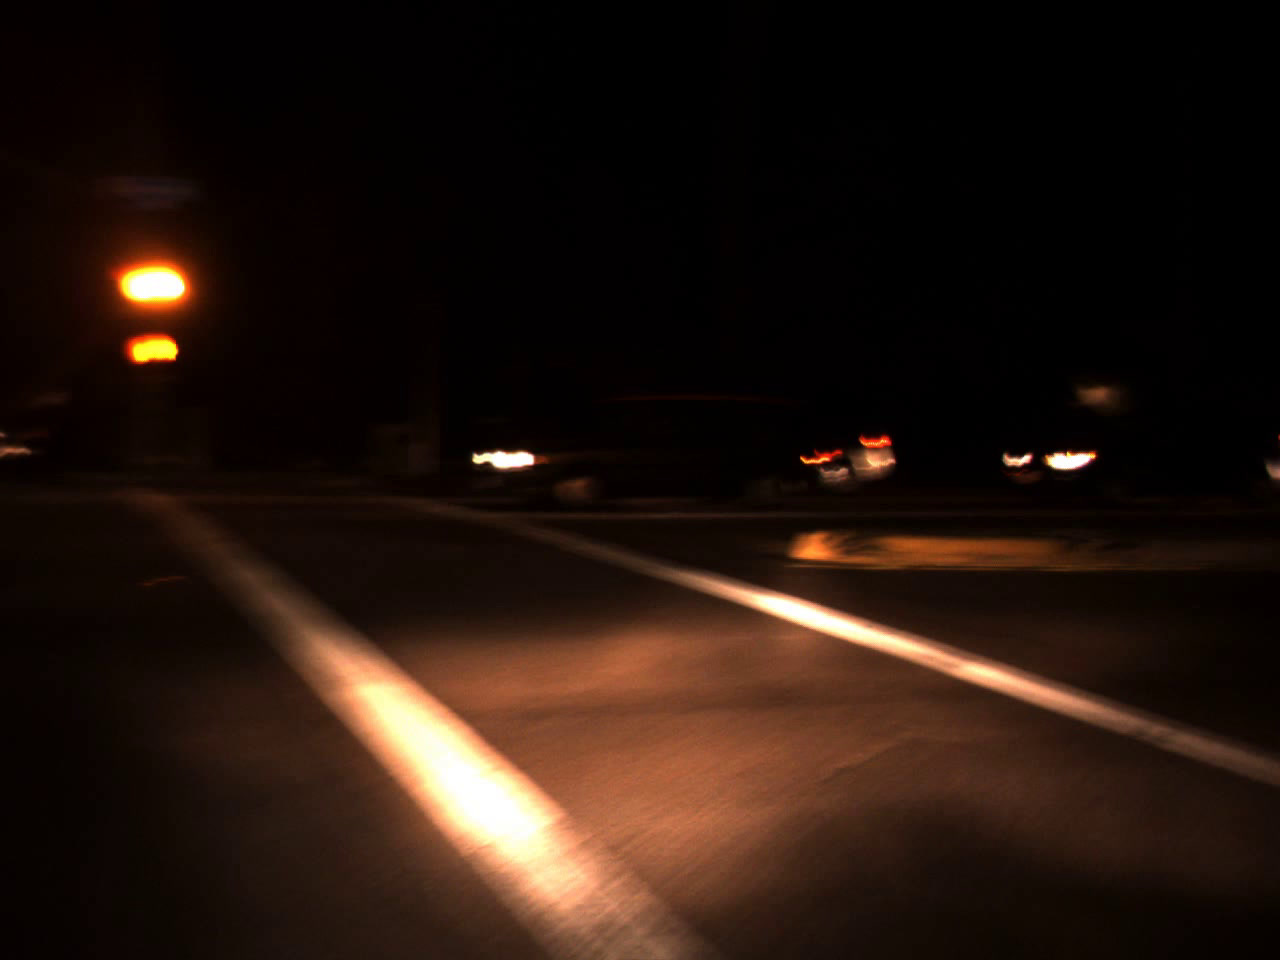warning: (136, 254, 184, 311)
